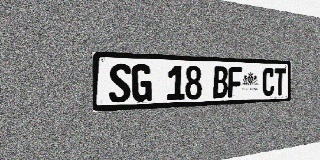1: (167, 65, 185, 100)
8: (185, 66, 202, 100)
B: (213, 66, 228, 98)
C: (262, 68, 275, 96)
F: (228, 67, 242, 98)
G: (132, 64, 152, 102)
S: (109, 63, 131, 103)
T: (274, 68, 286, 96)
